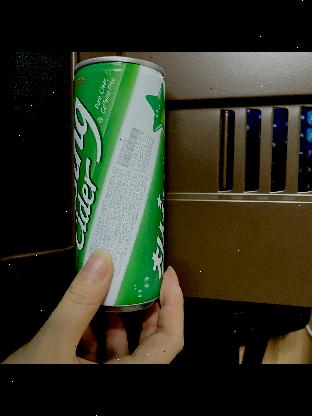Can: (71, 57, 168, 314)
